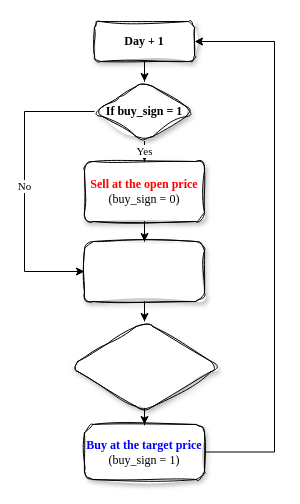
Some shapes in this 300 by 504 pixel diagram are drawn without their labels. Here are the shapes that lost their labels. From the top down, the centre of each, then its label:
At (x=145, y=272): "PriceWidth = (High-Low) yesterday".
At (x=145, y=367): "If Price > TargetPrice (=Open+K*PriceWidth)".
